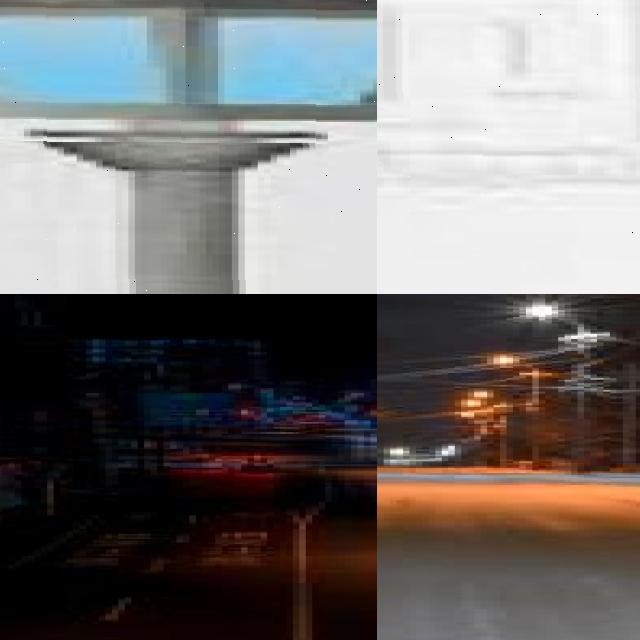street light: (0, 0, 377, 294), (377, 0, 640, 294), (526, 305, 590, 472), (500, 358, 552, 468), (474, 392, 516, 468)
